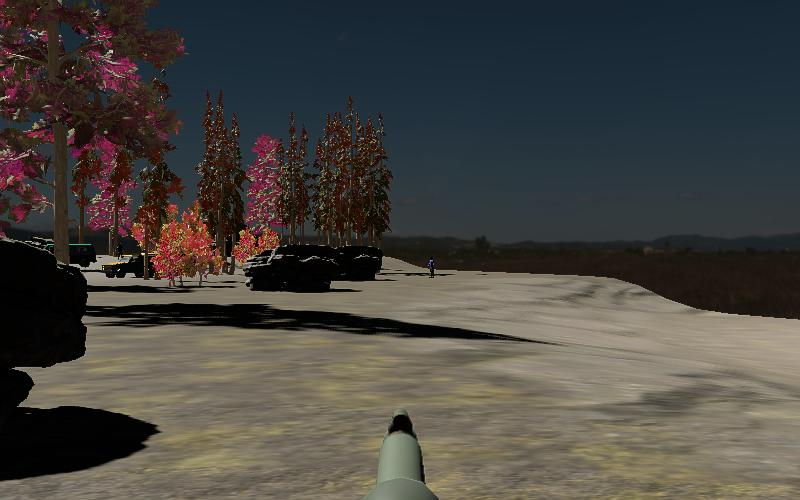car: (102, 252, 161, 279), (53, 241, 98, 267)
